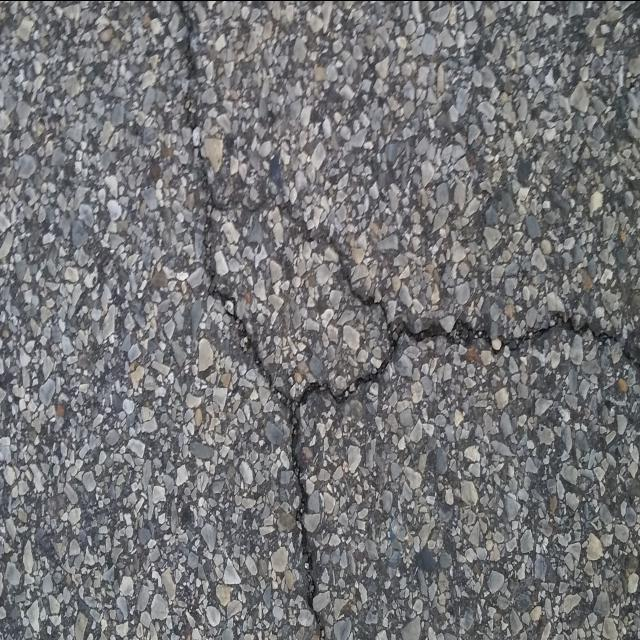Crack: (173, 0, 640, 640)
